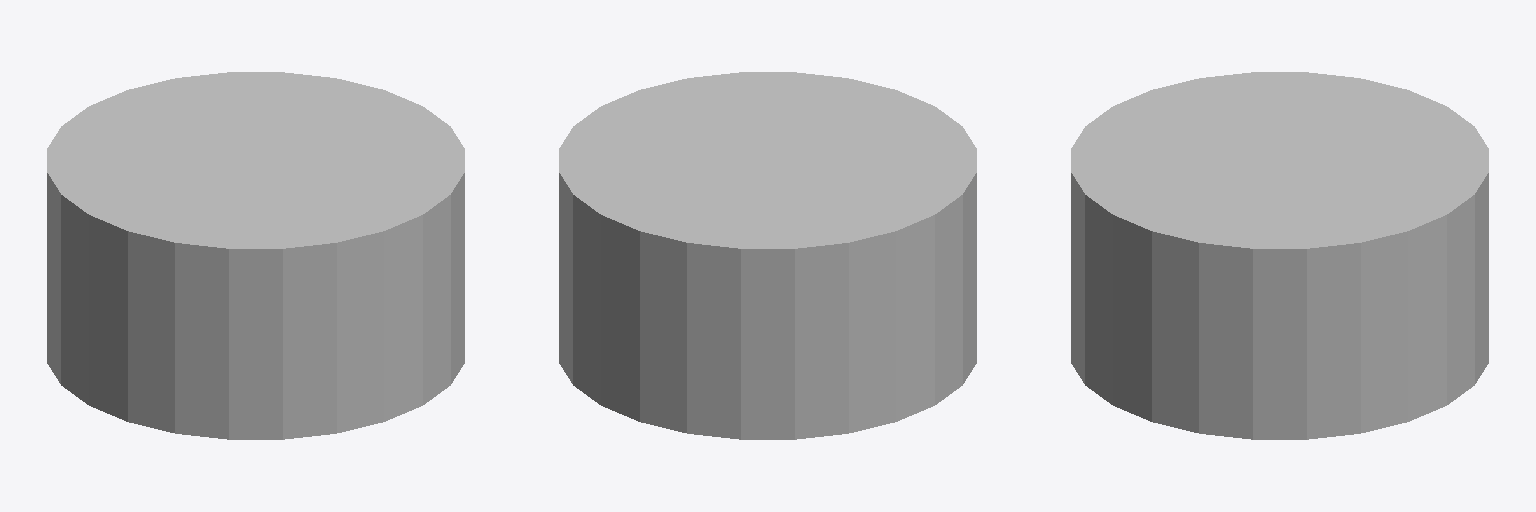
File: S1TL1Collider.obj
3 views of the same model, side by side, from view 1: azimuth 30°, elevation 25°; view 2: azimuth 150°, elevation 25°; view 3: azimuth 270°, elevation 25° (orthographic).
Parts seen in each view (by area): view 1: S1TL1Collider; view 2: S1TL1Collider; view 3: S1TL1Collider.
Part boxes in pixels (left/top/right/bottom): S1TL1Collider: left=47, top=72, right=464, bottom=439; S1TL1Collider: left=559, top=72, right=976, bottom=439; S1TL1Collider: left=1071, top=72, right=1488, bottom=439.
Size of the model in its own units: 1.24 by 0.625 by 1.24.